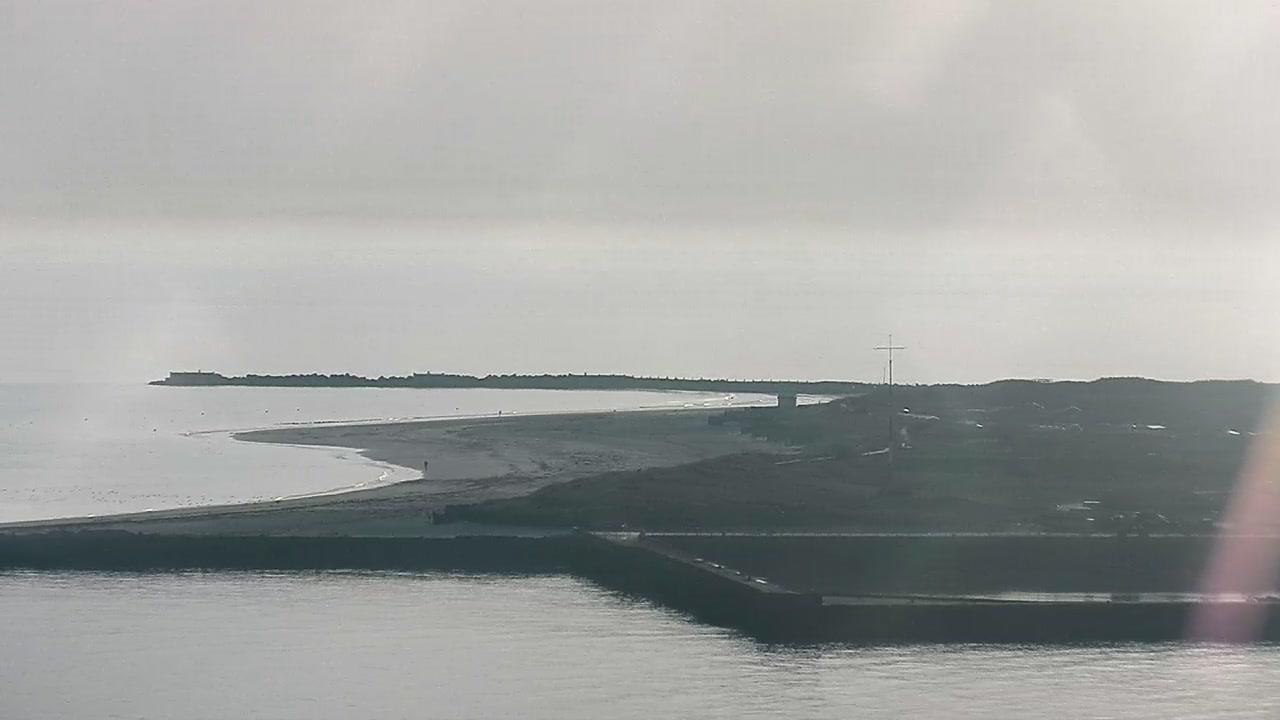human: (423, 459, 429, 473), (498, 409, 502, 417)
